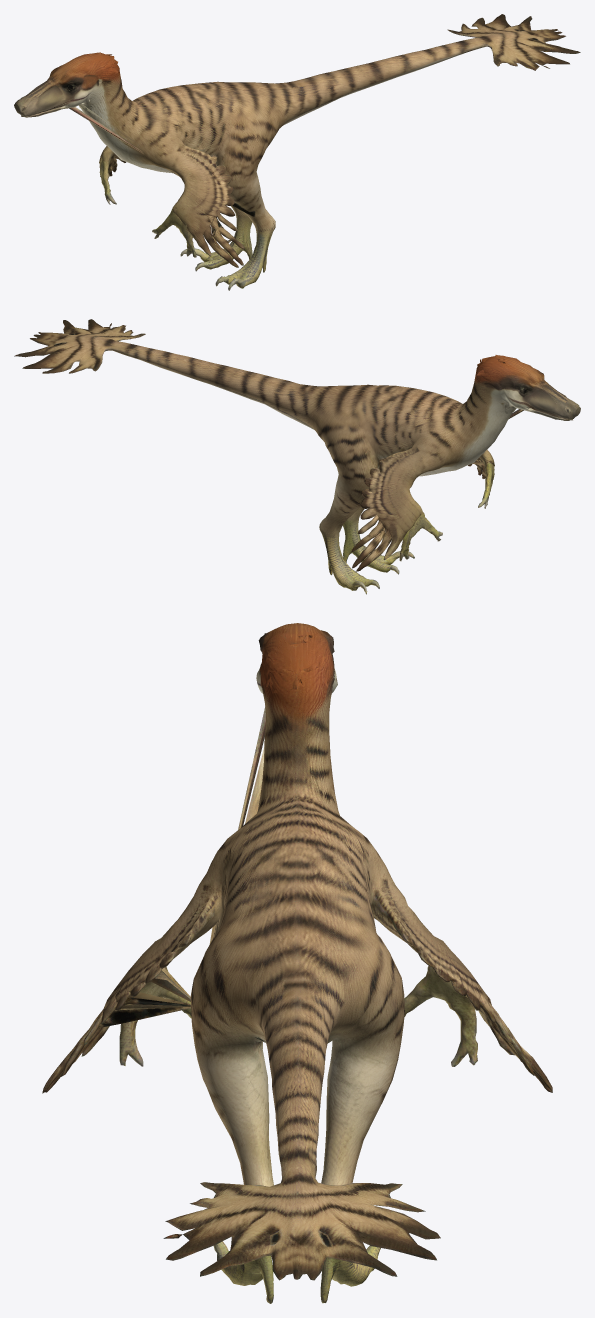
File: velociraptor_i2m_v1.glb
3 views of the same model, one above another, from view 1: azimuth 30°, elevation 25°; view 2: azimuth 150°, elevation 25°; view 3: azimuth 270°, elevation 25° (orthographic). The views are drawn at different scales.
Visible parts, largest first — view 1: Mesh_0; view 2: Mesh_0; view 3: Mesh_0.
Part boxes in pixels (left/top/right/bottom): Mesh_0: left=14, top=14, right=580, bottom=290; Mesh_0: left=14, top=319, right=580, bottom=594; Mesh_0: left=42, top=623, right=552, bottom=1303.
Bounding box in the file's own units: 1.12 × 0.5 × 0.4561.
Materials: 1 (1 with a texture image).
